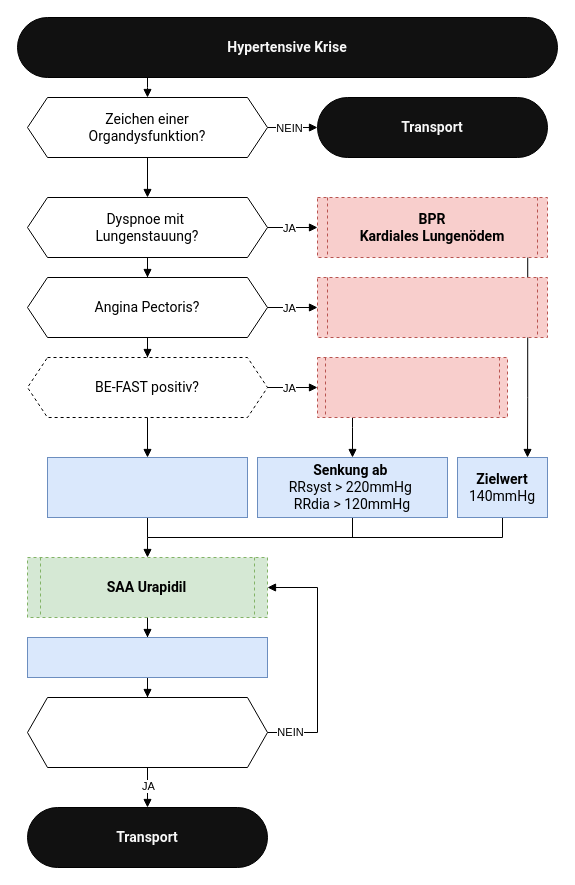
This 575x885 diagram has some shape labels left out. Here are the shapes that lost their labels. From the top down, the centre of each, then its label:
(432,307): BPR Akutes Koronarsyndrom
(412,387): BPR Schlaganfall
(147,487): Senkung ab RRsyst > 180mmHg RRdia > 110mmHg
(147,657): Kontrolle nach 3min
(147,732): Senkung um 25% des Ausgangswertes? Oder Zielwert erreicht?
